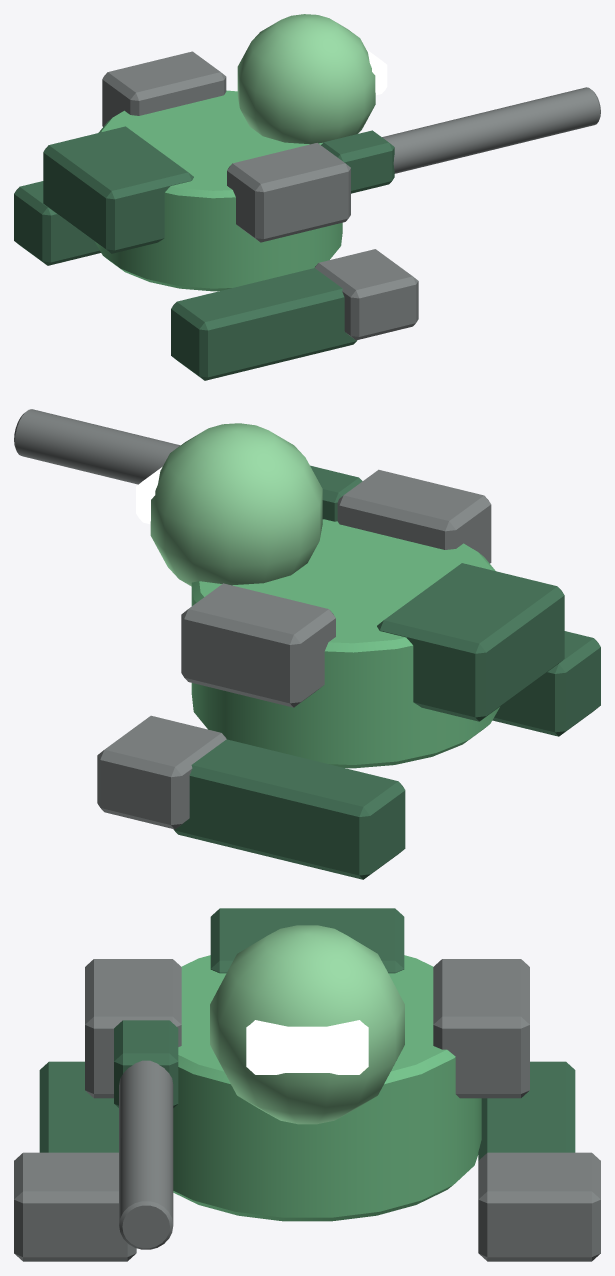
File: enemy_grunt.glb
3 views of the same model, one above another, from view 1: azimuth 30°, elevation 25°; view 2: azimuth 150°, elevation 25°; view 3: azimuth 270°, elevation 25° (orthographic). The views are drawn at different scales.
Visible parts, largest first — view 1: Cylinder, Sphere, Cube, Cube.006, Cube.004, Cylinder.001, Cube.001, Cube.005, Cube.002, Cube.008, Cube.007; view 2: Cylinder, Sphere, Cube.002, Cube.006, Cube.005, Cube.003, Cube.004, Cylinder.001, Cube, Cube.008, Cube.007; view 3: Cylinder, Sphere, Cube.003, Cube.005, Cube.001, Cylinder.001, Cube.004, Cube.006, Cube.002, Cube.007, Cube, Cube.008.
Part boxes in pixels (x1,y1,x2,y2): Cylinder: (95, 90, 342, 291); Sphere: (237, 14, 375, 144); Cube: (171, 268, 357, 380); Cube.006: (43, 126, 193, 253); Cube.004: (227, 143, 350, 242); Cylinder.001: (382, 87, 600, 173); Cube.001: (314, 249, 418, 340); Cube.005: (102, 51, 226, 126); Cube.002: (14, 181, 100, 265); Cube.008: (321, 130, 394, 193); Cube.007: (366, 49, 387, 95); Cylinder: (191, 519, 499, 768); Sphere: (150, 423, 322, 586); Cube.002: (173, 739, 405, 879); Cube.006: (377, 563, 564, 721); Cube.005: (181, 583, 335, 707); Cube.003: (97, 715, 226, 829); Cube.004: (337, 469, 491, 563); Cylinder.001: (14, 409, 180, 484); Cube: (492, 631, 600, 736); Cube.008: (310, 465, 362, 521); Cube.007: (136, 467, 162, 524); Cylinder: (173, 955, 481, 1221); Sphere: (210, 925, 404, 1124); Cube.003: (478, 1152, 600, 1261); Cube.005: (433, 959, 529, 1098); Cube.001: (14, 1152, 136, 1261); Cylinder.001: (119, 1060, 173, 1249); Cube.004: (85, 959, 181, 1098); Cube.006: (210, 908, 404, 973); Cube.002: (478, 1061, 575, 1160); Cube.007: (246, 1020, 368, 1074); Cube: (39, 1061, 118, 1152); Cube.008: (114, 1020, 178, 1107).
Size of the model in its own units: 1.15 by 0.585 by 0.91.
